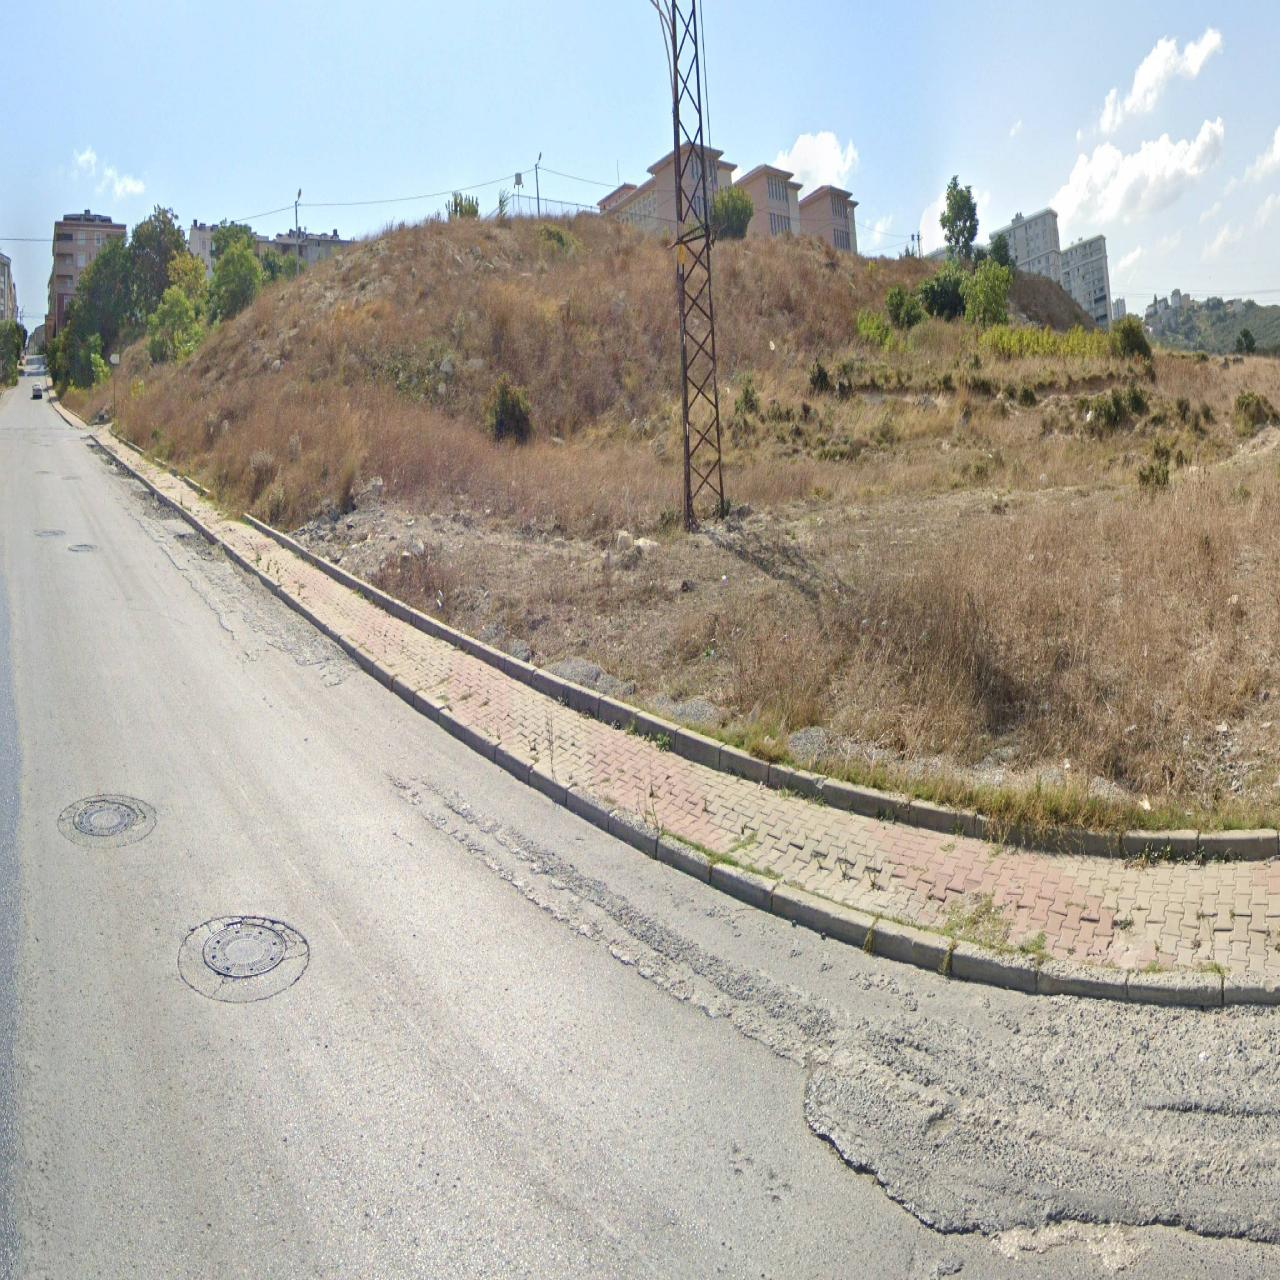Utility Pole Information Plate: (678, 245, 685, 264)
